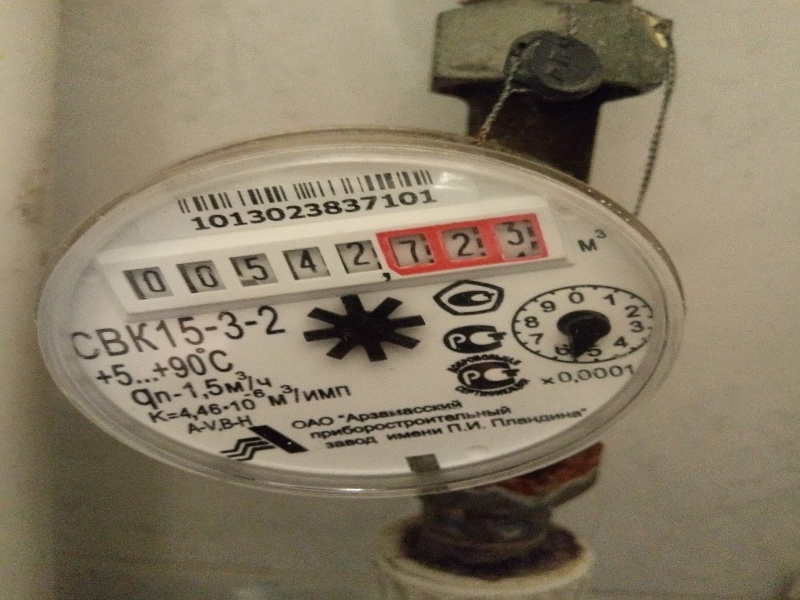meter: (97, 218, 562, 300)
